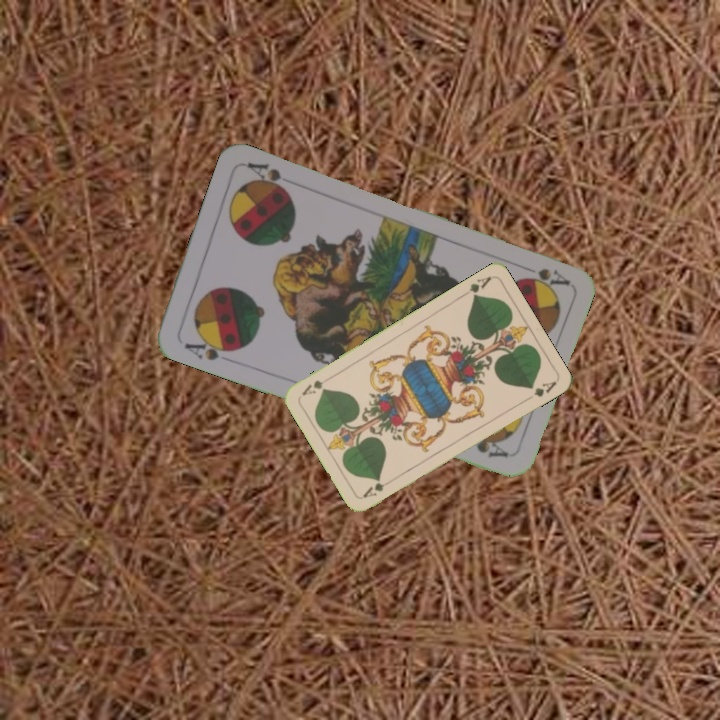GA: (457, 272, 494, 301), (359, 476, 396, 500)
SA: (180, 332, 239, 363), (514, 260, 572, 289)
